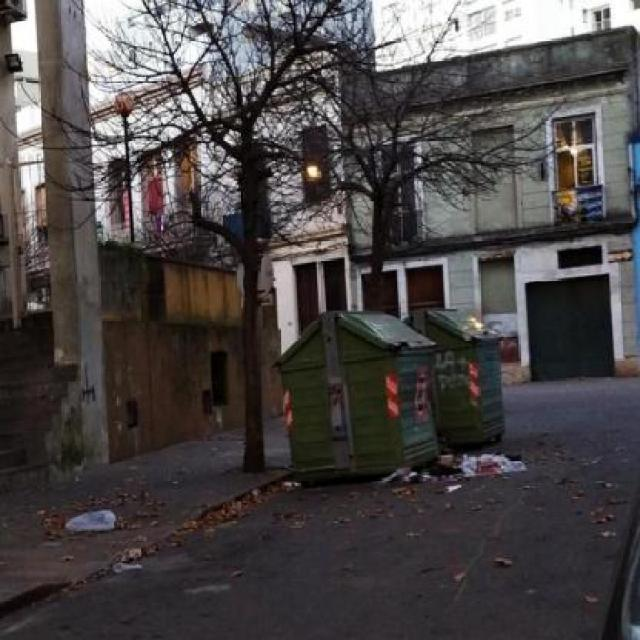garbage: (391, 454, 532, 478), (55, 503, 120, 539), (88, 537, 162, 566), (197, 501, 247, 516)
